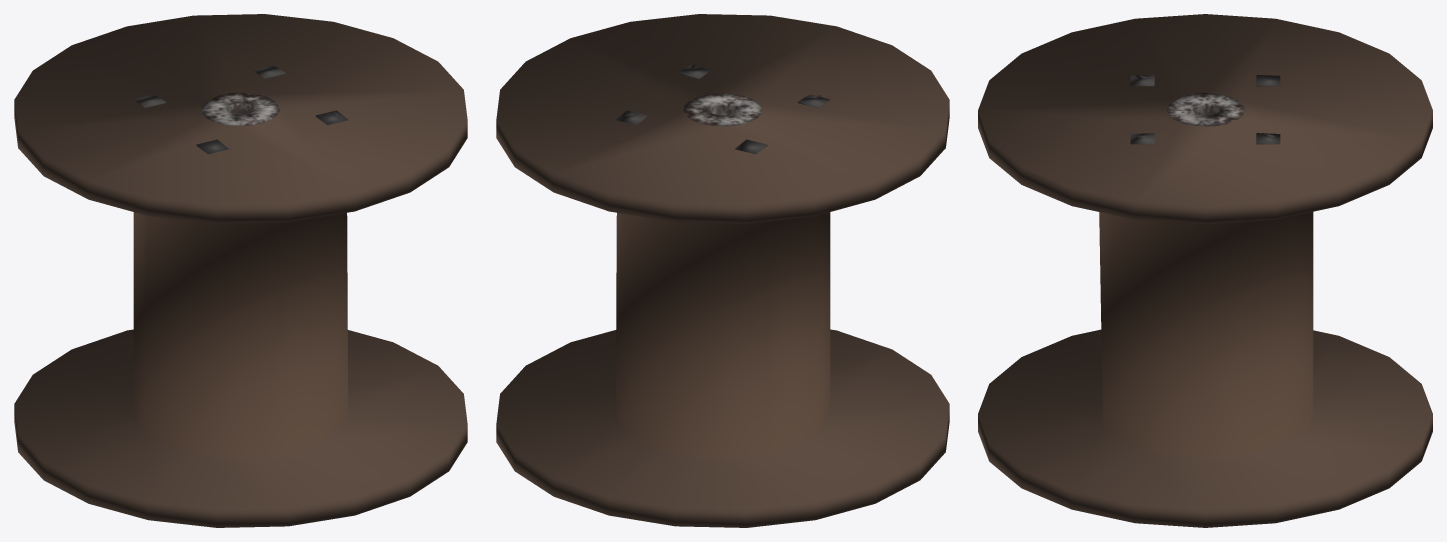
The model's file is cable-reel.lod1.glb.
3 renders of one model, left to right at view 1: azimuth 30°, elevation 25°; view 2: azimuth 150°, elevation 25°; view 3: azimuth 270°, elevation 25°, orthographic.
Visible parts, largest first — view 1: Cylinder.001_Reel_Wood_0, Cylinder.001_Reel_Metal_0; view 2: Cylinder.001_Reel_Wood_0, Cylinder.001_Reel_Metal_0; view 3: Cylinder.001_Reel_Wood_0, Cylinder.001_Reel_Metal_0.
Part boxes in pixels (box(x1,y1,x2,y2)): Cylinder.001_Reel_Wood_0: box(14, 14, 467, 527); Cylinder.001_Reel_Metal_0: box(201, 93, 279, 126); Cylinder.001_Reel_Wood_0: box(496, 14, 949, 527); Cylinder.001_Reel_Metal_0: box(683, 93, 762, 126); Cylinder.001_Reel_Wood_0: box(978, 14, 1432, 527); Cylinder.001_Reel_Metal_0: box(1166, 93, 1244, 126).
Size of the model in its own units: 1.99 by 1.6 by 1.99.
2 materials, 1 textured.
